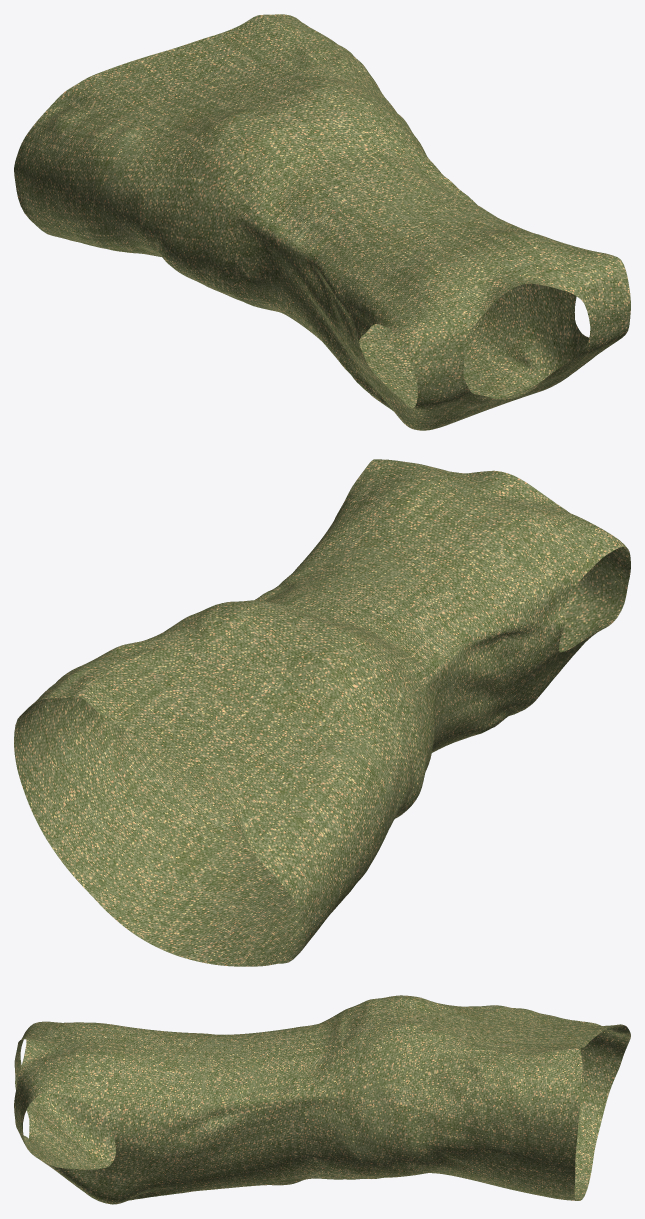
Rendered from dress2-iso.obj.
3 views of the same model, one above another, from view 1: azimuth 30°, elevation 25°; view 2: azimuth 150°, elevation 25°; view 3: azimuth 270°, elevation 25° (orthographic). The views are drawn at different scales.
Bounding box in the file's own units: 0.3647 × 0.2617 × 0.7872.
1 material, 1 textured.
